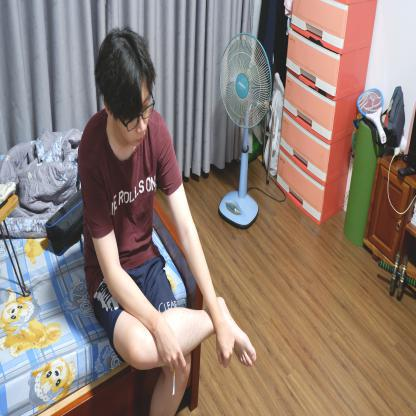cigarette: (172, 366, 176, 397)
person: (78, 23, 218, 415)
